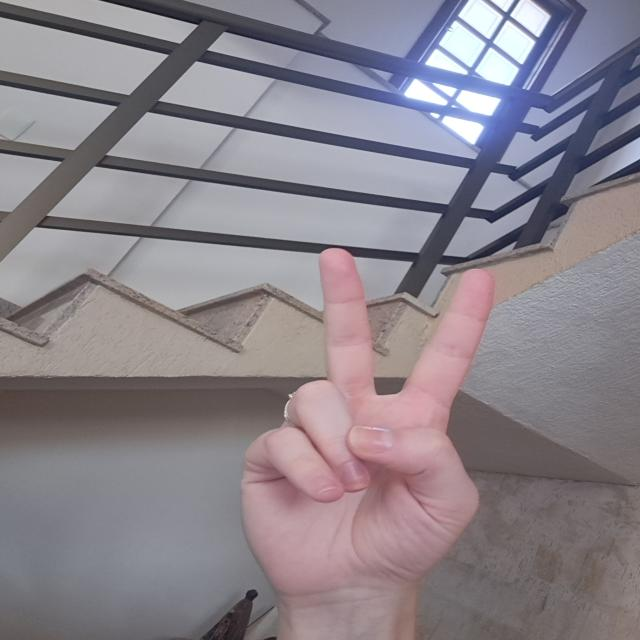V: (225, 237, 499, 592)
